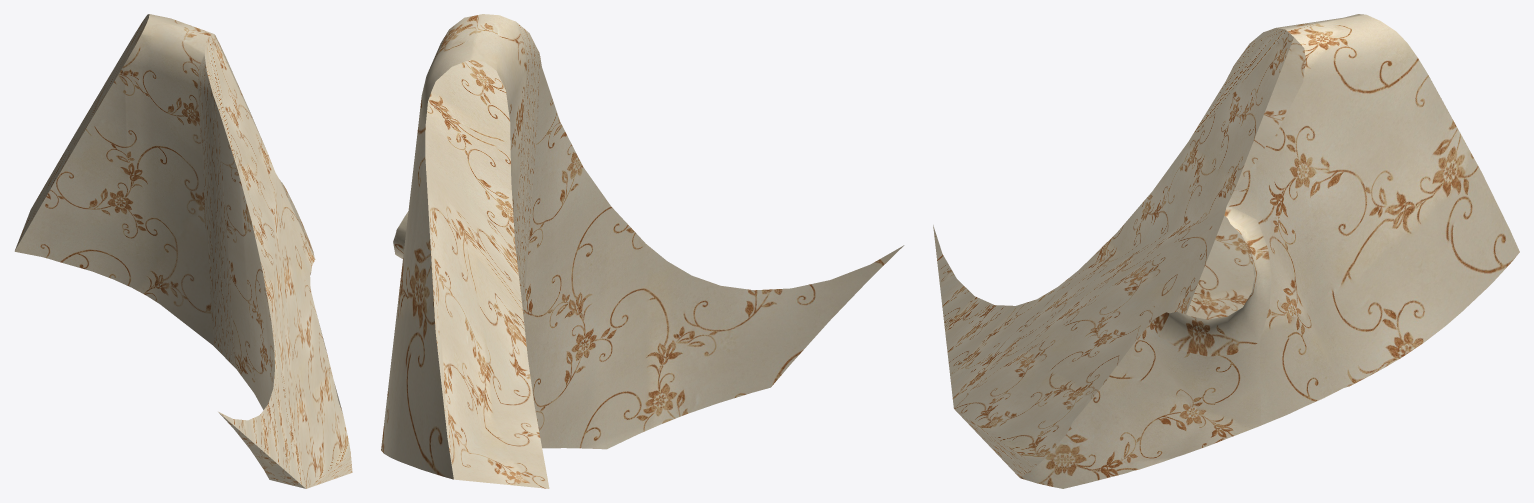
3 views of the same model, side by side, from view 1: azimuth 30°, elevation 25°; view 2: azimuth 150°, elevation 25°; view 3: azimuth 270°, elevation 25° (orthographic). The views are drawn at different scales.
Parts seen in each view (by area): view 1: Cylinder_cell.008; view 2: Cylinder_cell.008; view 3: Cylinder_cell.008.
Boxes of the visible parts, x1=… form: Cylinder_cell.008: x1=14, y1=14, x2=352, y2=488; Cylinder_cell.008: x1=381, y1=14, x2=904, y2=488; Cylinder_cell.008: x1=933, y1=14, x2=1519, y2=488.
Size of the model in its own units: 0.7558 by 1.22 by 1.49.
Materials: 1 (1 with a texture image).
